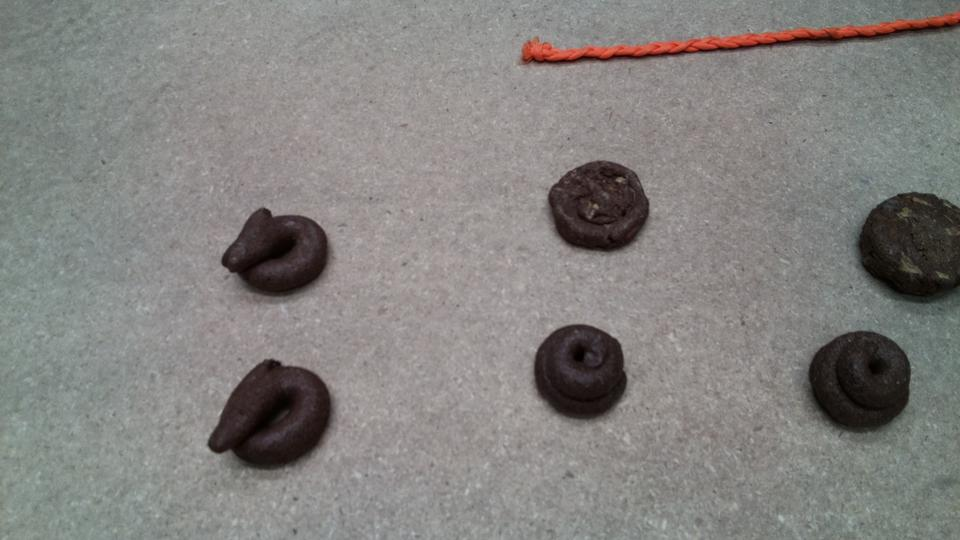poop: (206, 353, 336, 471), (854, 190, 960, 306), (805, 327, 916, 435), (218, 204, 334, 300), (544, 157, 654, 254), (531, 322, 629, 422)
rope: (516, 8, 960, 69)
